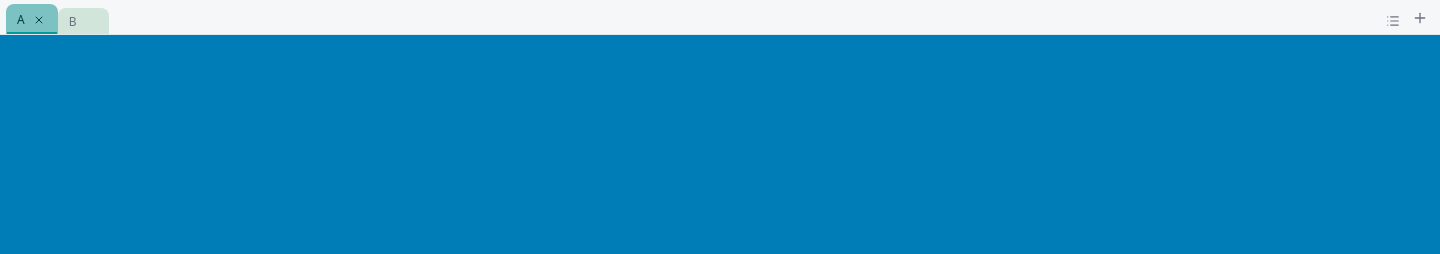
TabBar › 右键标签弹出菜单，含三项操作
The width and height of the screenshot is (1440, 254).
Right-click the button "A" at (32, 19), box [6,4,58,34]
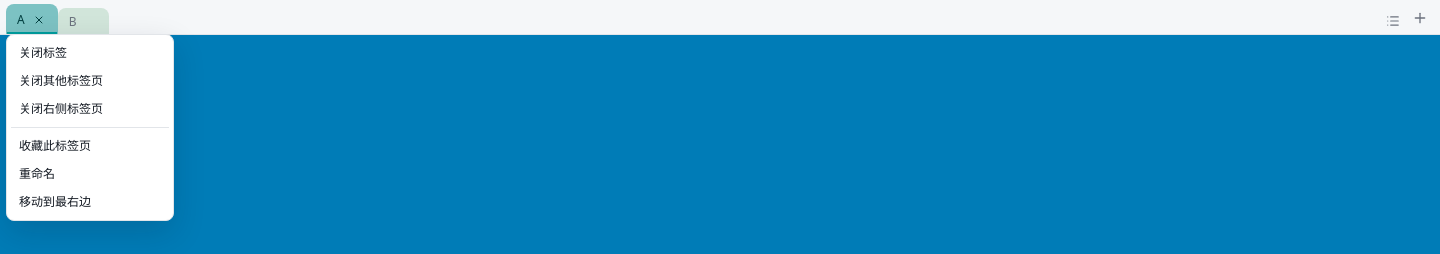
Check: the button "关闭标签" is shown, box [11,39,169,67]
Check: the button "重命名" is shown, box [11,160,169,188]
Check: the button "移动到最右边" is shown, box [11,188,169,216]
